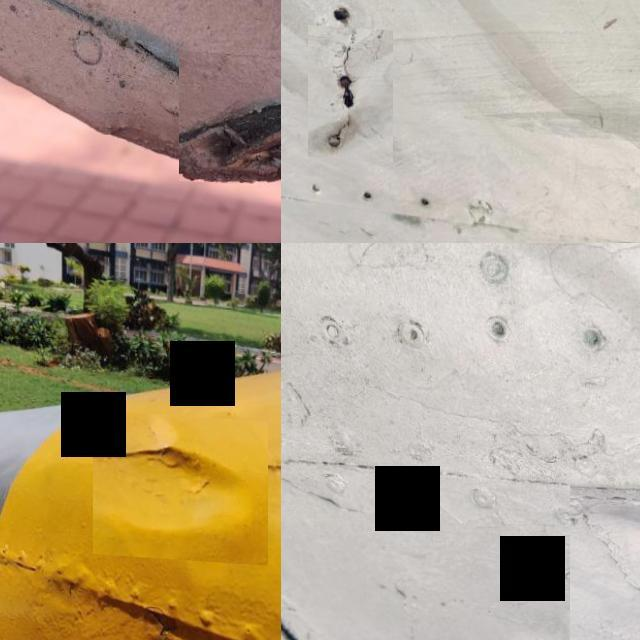Crack: (179, 45, 281, 184), (308, 22, 393, 158)
Dent: (93, 408, 268, 560), (569, 477, 640, 640), (390, 603, 505, 640)
